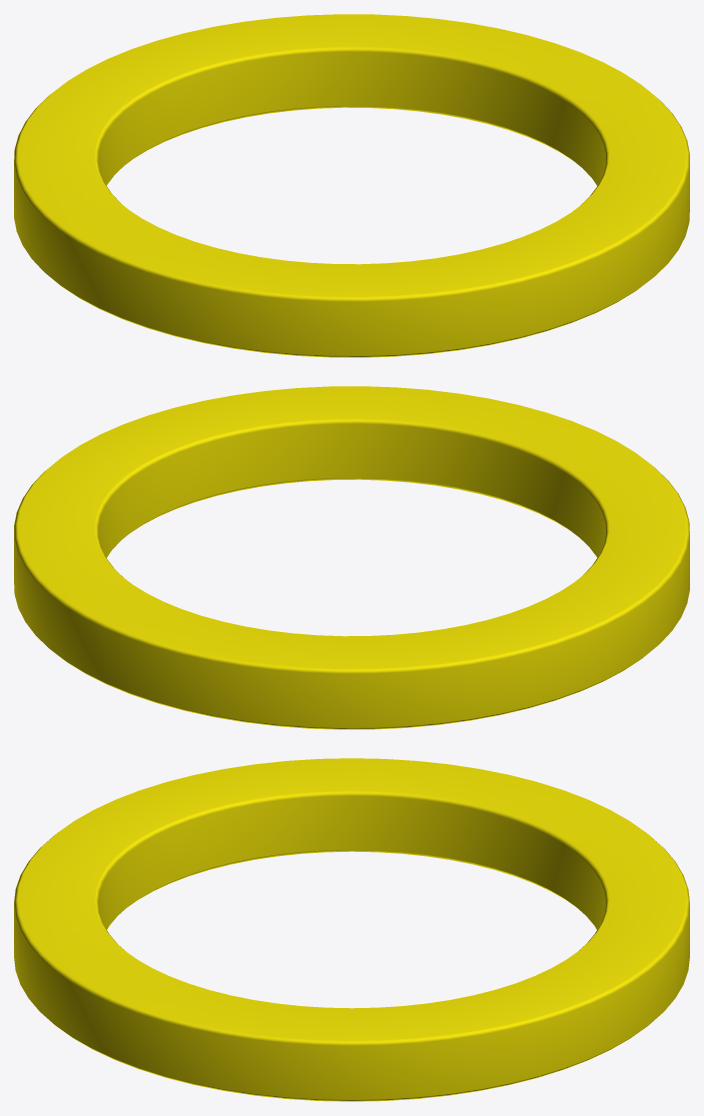
3 views of the same model, one above another, from view 1: azimuth 30°, elevation 25°; view 2: azimuth 150°, elevation 25°; view 3: azimuth 270°, elevation 25° (orthographic).
Parts seen in each view (by area): view 1: seal_body; view 2: seal_body; view 3: seal_body.
Boxes of the visible parts, bbox=[...] form: seal_body: bbox=[14, 14, 689, 357]; seal_body: bbox=[14, 386, 689, 729]; seal_body: bbox=[14, 758, 689, 1101].
Bounding box in the file's own units: 0.06 × 0.006 × 0.06.
